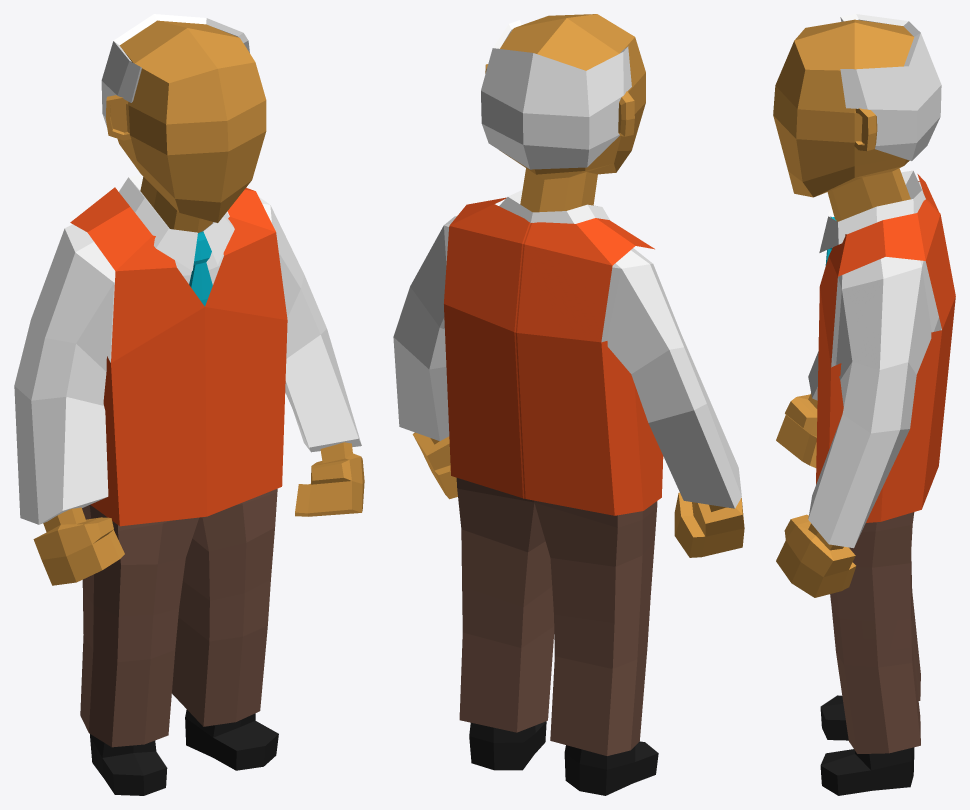
File: Teacher.glb
3 views of the same model, side by side, from view 1: azimuth 30°, elevation 25°; view 2: azimuth 150°, elevation 25°; view 3: azimuth 270°, elevation 25° (orthographic).
Parts seen in each view (by area): view 1: Teacher_Cube.008_Cube.003; view 2: Teacher_Cube.008_Cube.003; view 3: Teacher_Cube.008_Cube.003.
Part boxes in pixels (x1=…): Teacher_Cube.008_Cube.003: x1=14, y1=14, x2=364, y2=795; Teacher_Cube.008_Cube.003: x1=393, y1=14, x2=744, y2=795; Teacher_Cube.008_Cube.003: x1=773, y1=14, x2=955, y2=795.
Bounding box in the file's own units: 6.12 × 12.96 × 2.92.
